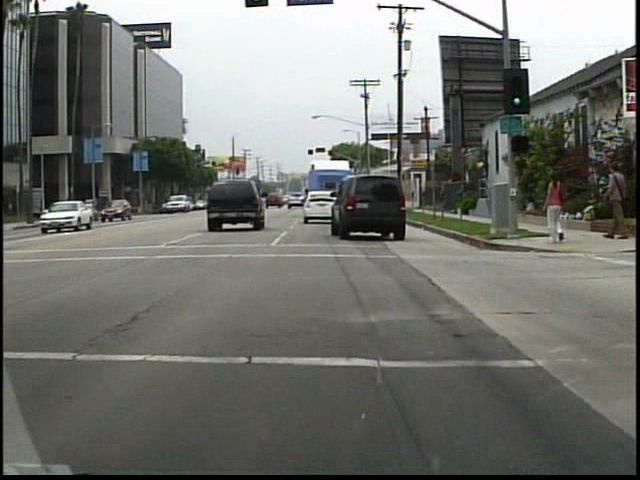person: (534, 169, 572, 248), (600, 155, 631, 243)
